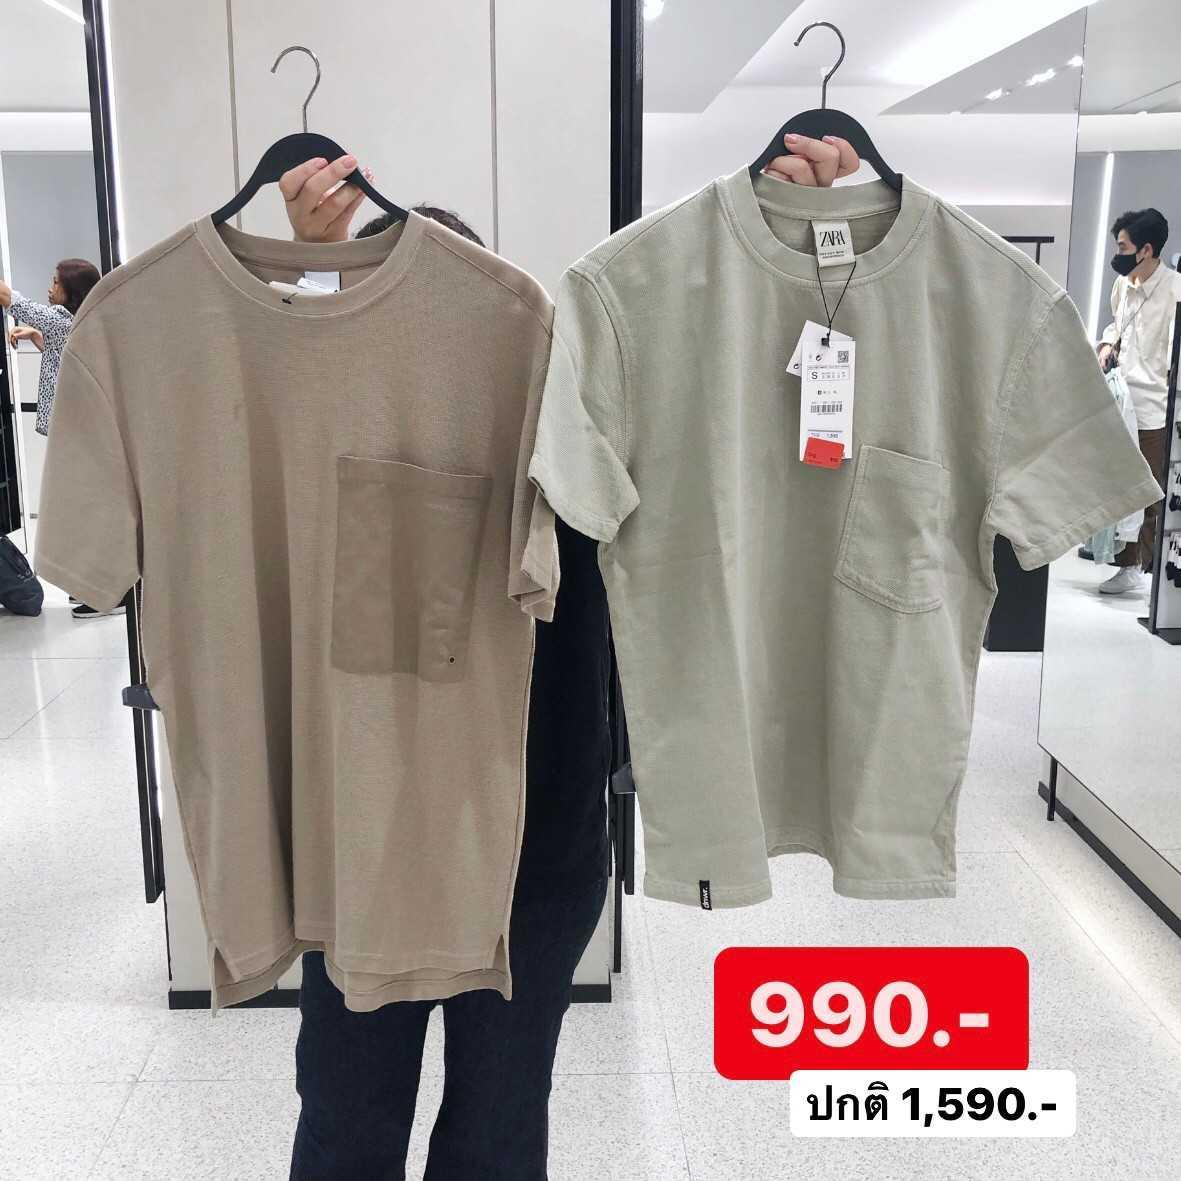Tshirt: (558, 165, 1143, 908), (43, 218, 544, 986)
